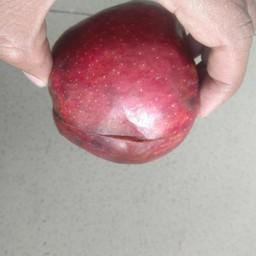Bad_apple: (47, 1, 199, 164)
